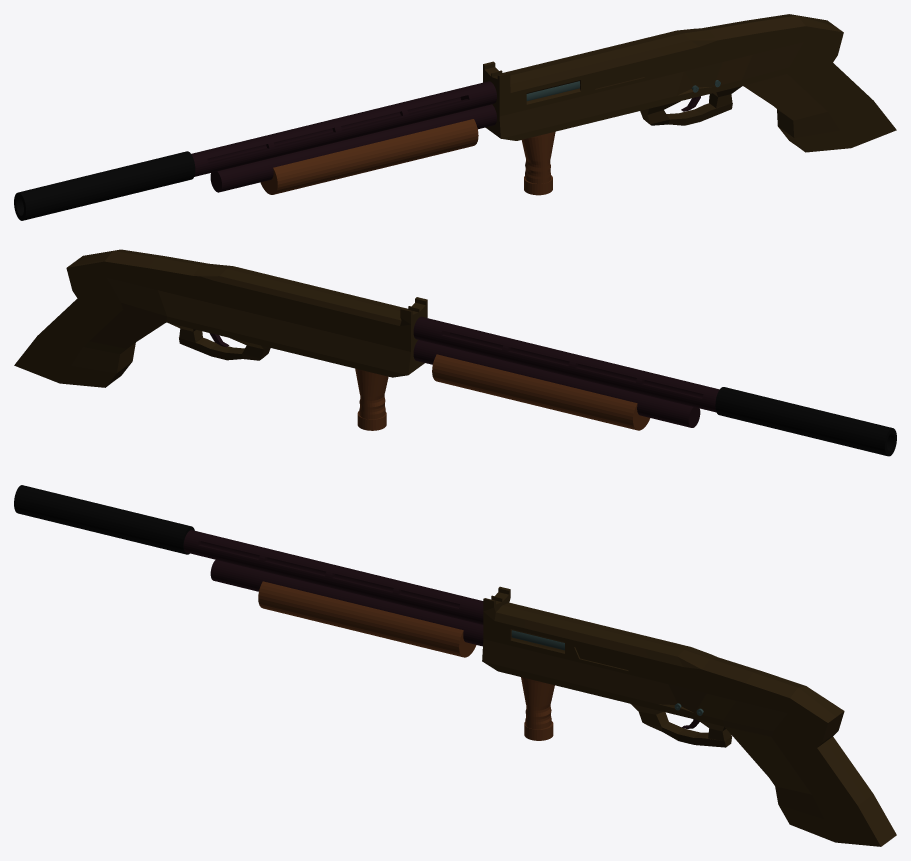
The model's file is _hotgun (1).fbx.
The picture shows the model from 3 angles, top to bottom: view 1: azimuth 30°, elevation 25°; view 2: azimuth 150°, elevation 25°; view 3: azimuth 330°, elevation 25°; orthographic projection.
Parts seen in each view (by area): view 1: Body, TopBarrel, Grip, Silencer, UnderBarrel, Foregrip, Interior; view 2: Body, TopBarrel, Grip, Silencer, UnderBarrel, Foregrip; view 3: Body, TopBarrel, Grip, Silencer, UnderBarrel, Foregrip.
Boxes of the visible parts, x1,y1,x2,y2 form: Body: (483, 14, 896, 152); TopBarrel: (191, 81, 496, 176); Grip: (260, 119, 478, 194); Silencer: (14, 151, 195, 220); UnderBarrel: (210, 104, 496, 192); Foregrip: (521, 131, 555, 195); Interior: (526, 81, 579, 101); Body: (14, 249, 427, 387); TopBarrel: (413, 316, 719, 412); Grip: (432, 354, 650, 430); Silencer: (715, 387, 896, 456); UnderBarrel: (413, 340, 700, 427); Foregrip: (355, 368, 388, 430); Body: (482, 586, 896, 846); TopBarrel: (183, 530, 483, 624); Grip: (258, 581, 476, 657); Silencer: (14, 485, 194, 554); UnderBarrel: (210, 560, 483, 646); Foregrip: (521, 677, 554, 740).
Size of the model in its own units: 2834 by 492 by 118.
